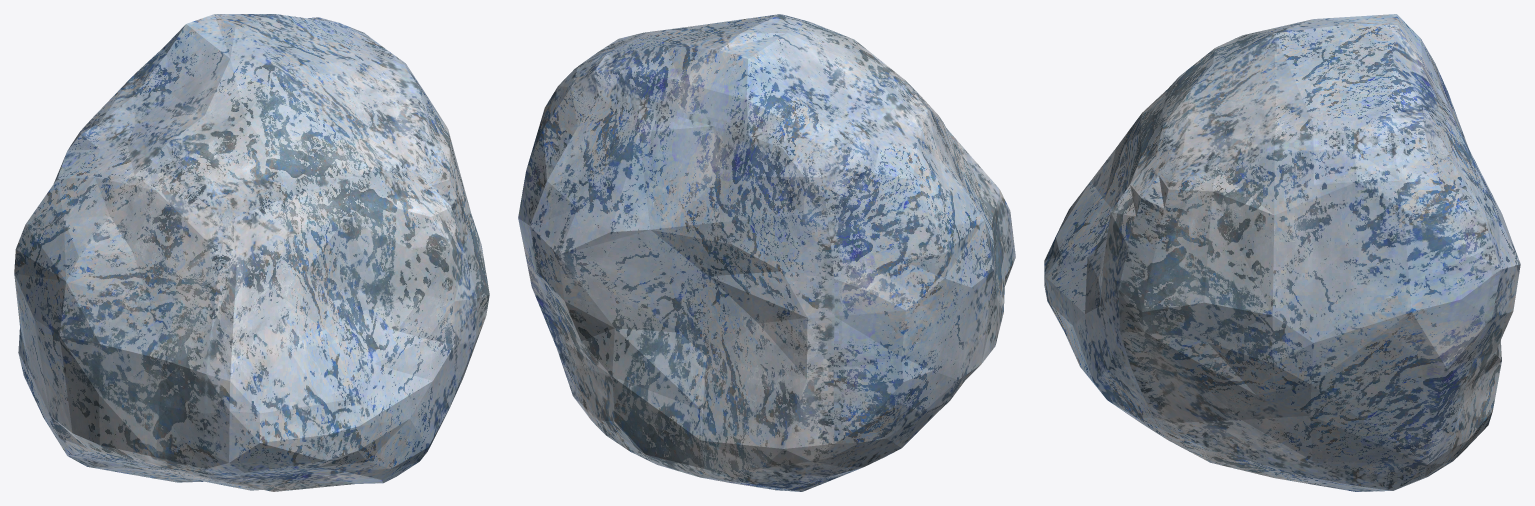
Rendered from asteroid_ice_medium_s01_l0.fbx.
The picture shows the model from 3 angles, left to right: view 1: azimuth 30°, elevation 25°; view 2: azimuth 150°, elevation 25°; view 3: azimuth 270°, elevation 25°; orthographic projection. The views are drawn at different scales.
Visible parts, largest first — view 1: mesh_node; view 2: mesh_node; view 3: mesh_node.
Boxes of the visible parts, x1=… form: mesh_node: x1=14, y1=14, x2=489, y2=491; mesh_node: x1=518, y1=14, x2=1015, y2=491; mesh_node: x1=1044, y1=14, x2=1520, y2=491.
Size of the model in its own units: 68.45 by 68.74 by 68.35.
Materials: 1 (1 with a texture image).
